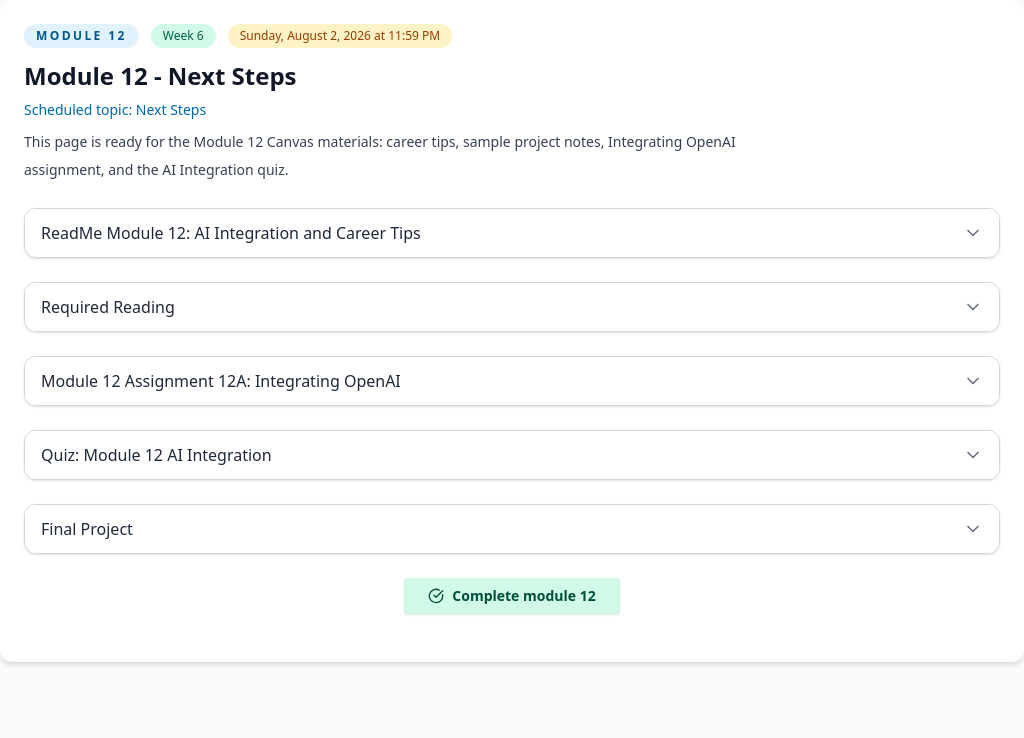
Test case: <AssignmentMod12 /> › renders the AI Integration and Career Tips ReadMe content
This screenshot has width=1024, height=738.
Click the button "ReadMe Module 12: AI Integration and Career Tips" at (231, 233), box top-left (25, 209), bottom-right (999, 257)
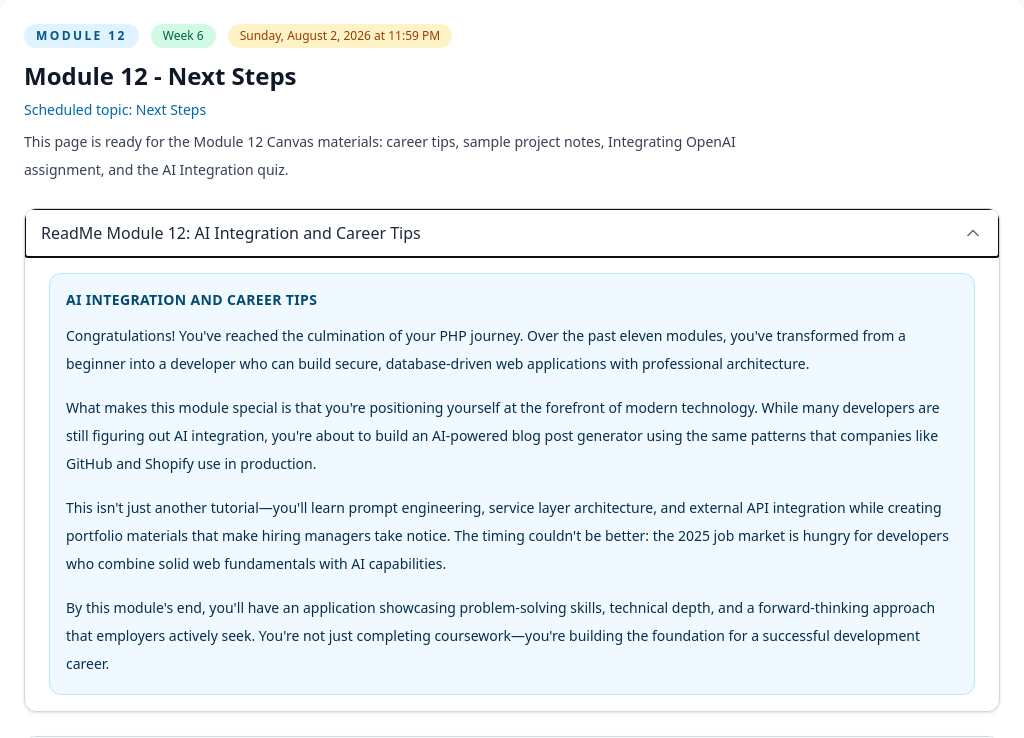
Expected: the heading "AI Integration and Career Tips" is shown, top-left (66, 290), bottom-right (317, 309)
Expected: the text "transformed from a beginner into a developer who can build secure, database-driven web applications" is shown, top-left (66, 326), bottom-right (906, 373)
Expected: the text "AI-powered blog post generator" is shown, top-left (66, 398), bottom-right (940, 473)
